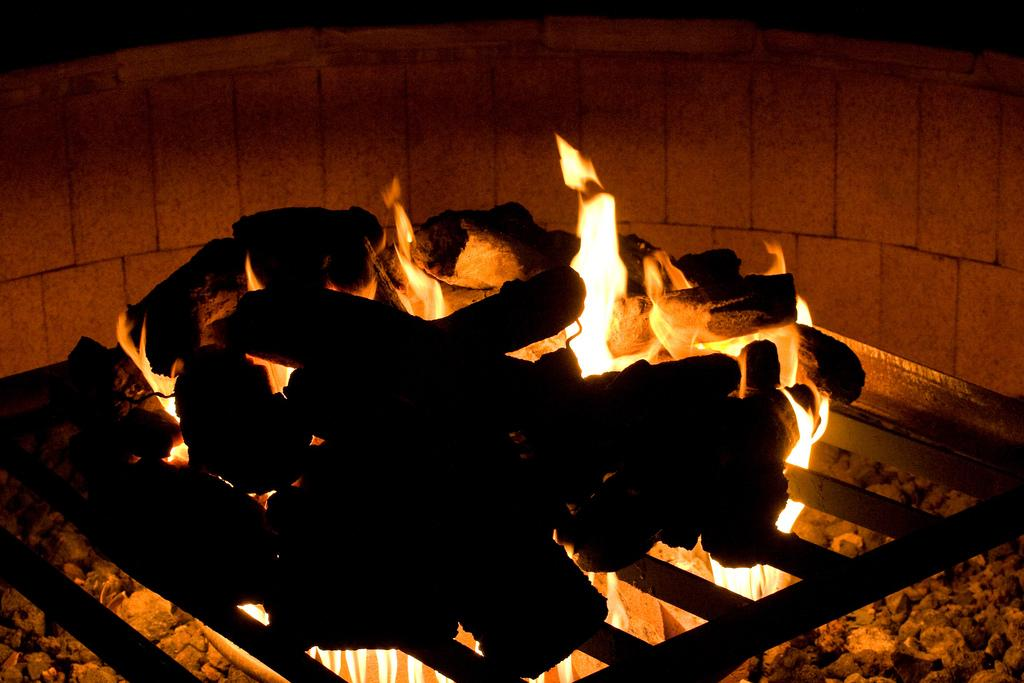fire: (582, 210, 615, 365)
